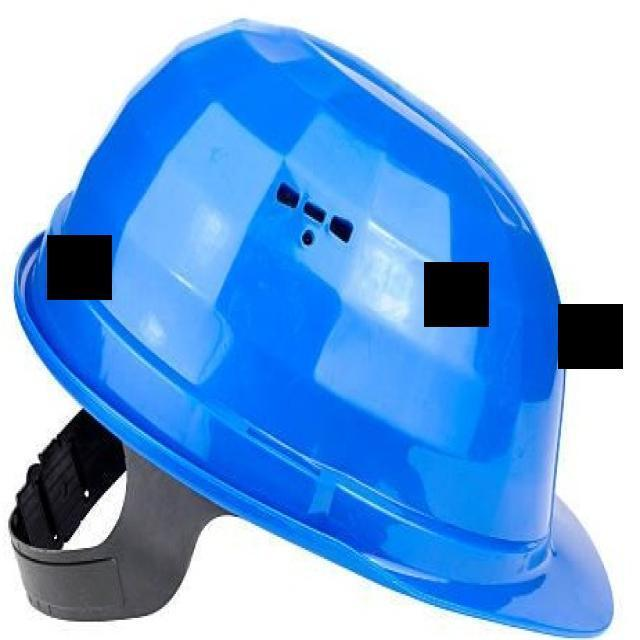blue helmet: (12, 14, 640, 640)
